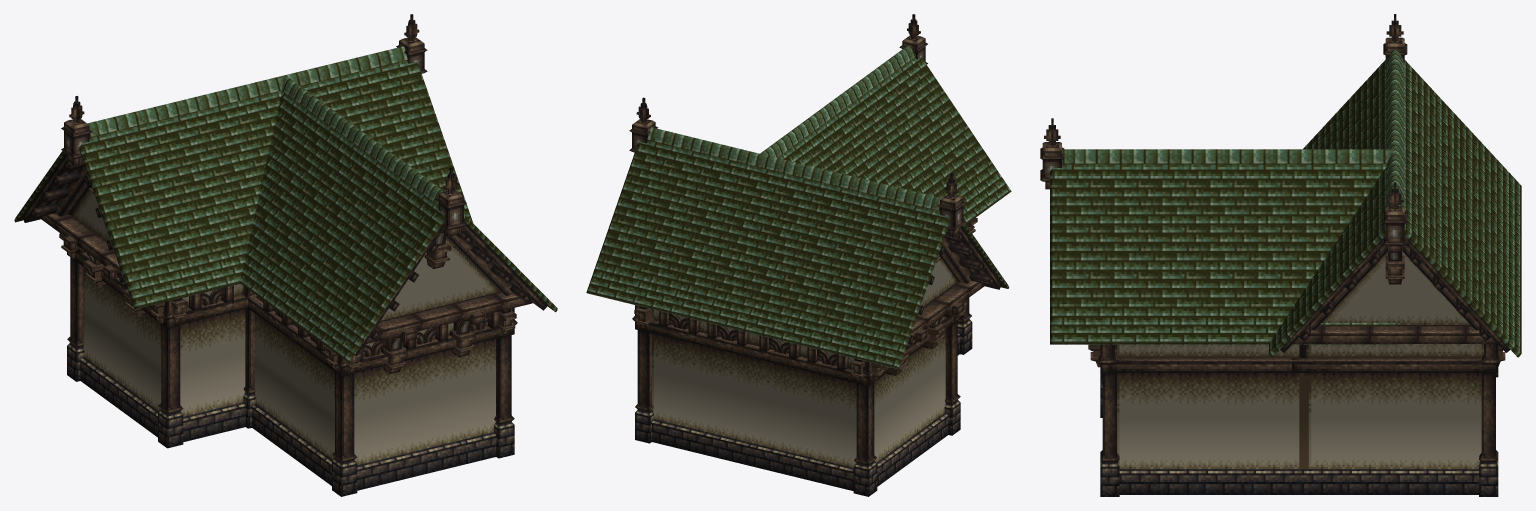
File: EnvBdgMD_City_C_Outdoor_Inn_A.FBX
The picture shows the model from 3 angles, left to right: view 1: azimuth 30°, elevation 25°; view 2: azimuth 150°, elevation 25°; view 3: azimuth 270°, elevation 25°; orthographic projection. The views are drawn at different scales.
Parts seen in each view (by area): view 1: EnvBdgMD_City_C_Outdoor_Inn_A; view 2: EnvBdgMD_City_C_Outdoor_Inn_A; view 3: EnvBdgMD_City_C_Outdoor_Inn_A.
Part boxes in pixels (<box>): EnvBdgMD_City_C_Outdoor_Inn_A: <box>14,14,557,496</box>; EnvBdgMD_City_C_Outdoor_Inn_A: <box>586,14,1011,496</box>; EnvBdgMD_City_C_Outdoor_Inn_A: <box>1040,14,1521,496</box>.
Bounding box in the file's own units: 880 × 770 × 1004.
